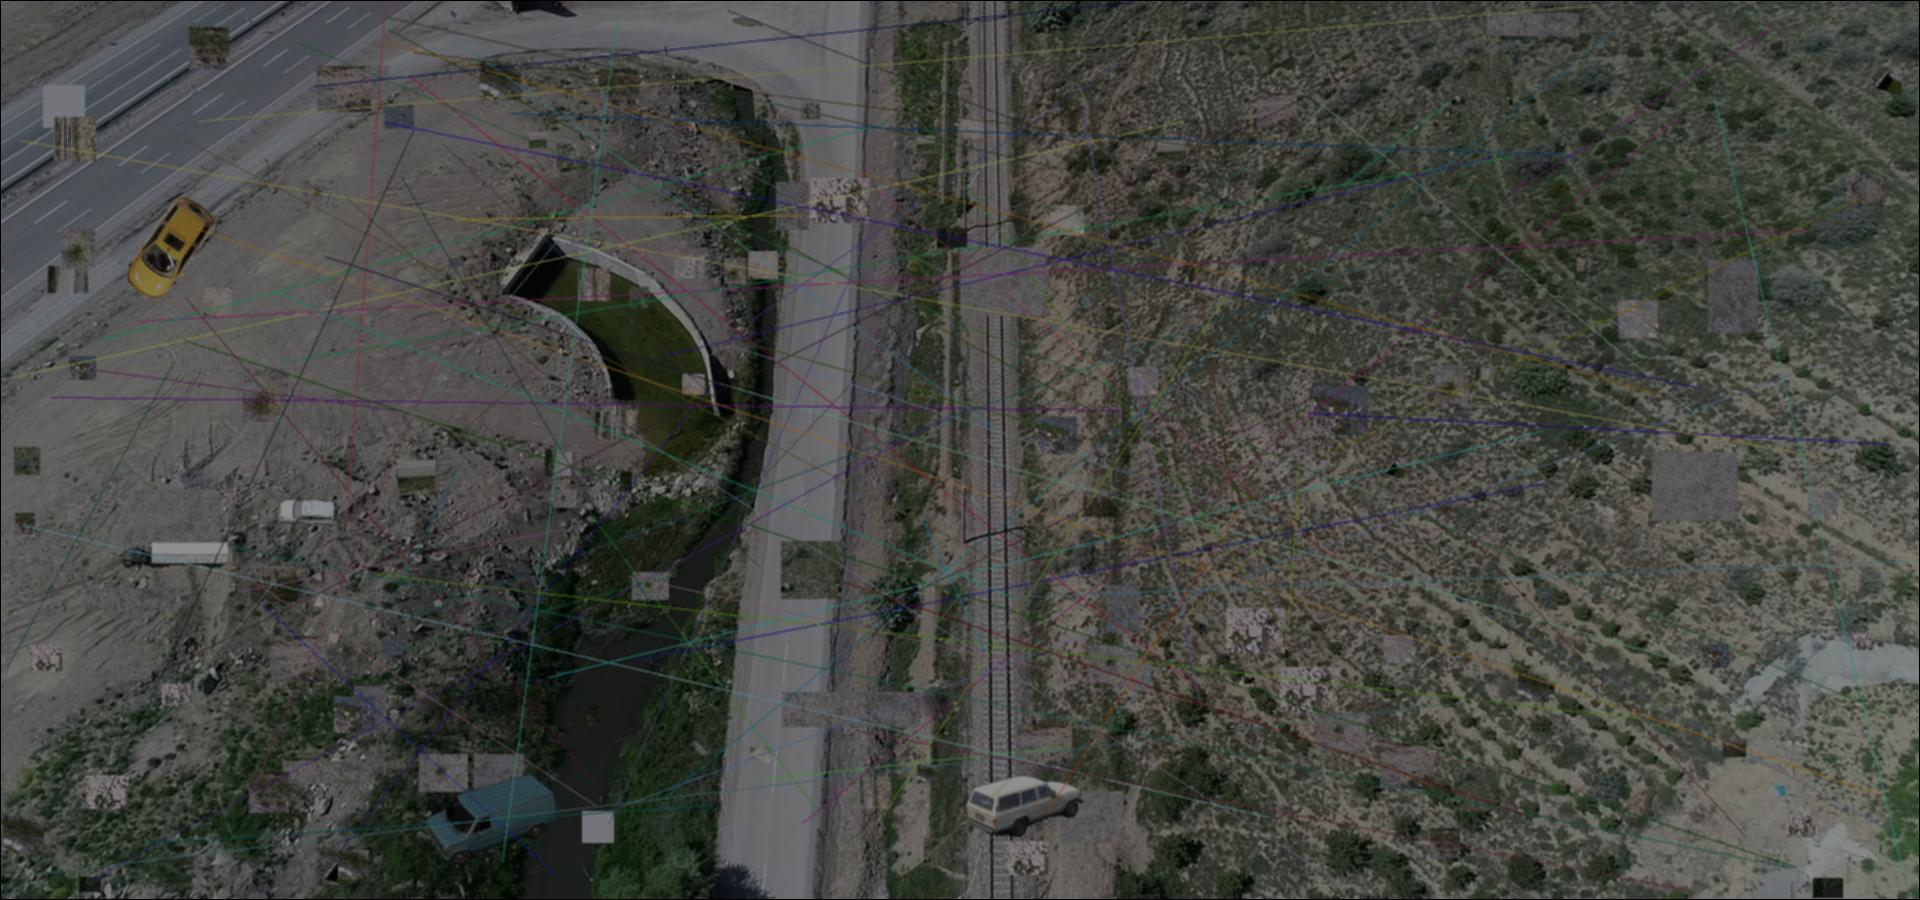arac: (426, 771, 557, 866), (122, 193, 219, 301), (965, 775, 1085, 838), (122, 540, 230, 569), (277, 496, 339, 530)
